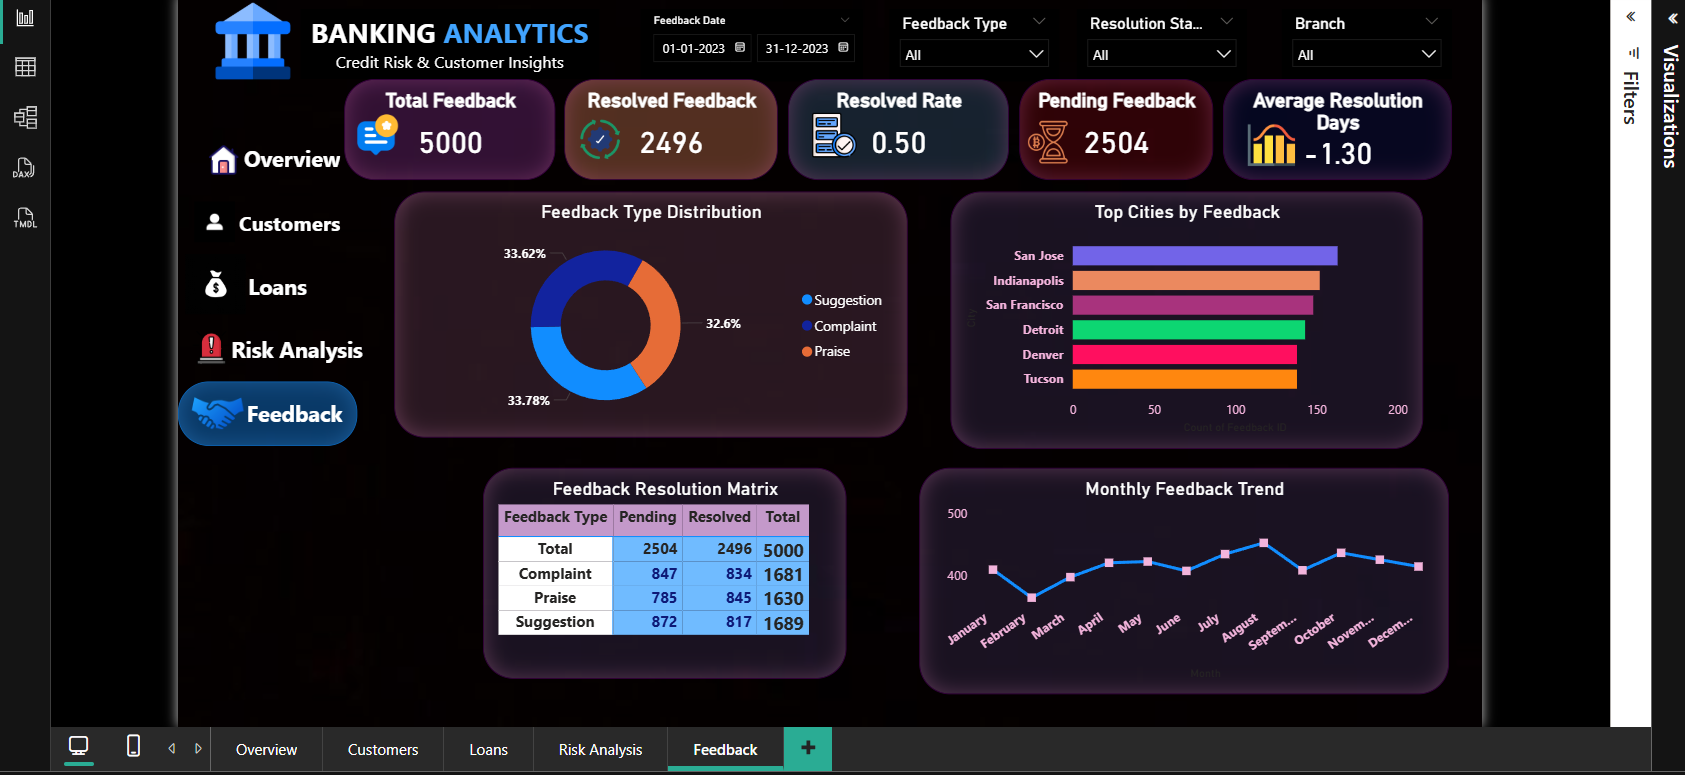

This screenshot's page, from the dashboard's own definition file:
{"tool":"powerbi","page":{"name":"Feedback","canvas":[1280,720],"ordinal":4},"visuals":[{"type":"textbox","box":[120.2,14.7,293.3,68.7],"z":0},{"type":"slicer","fields":{"Values":["Banking_Analysis.Feedback Date"]},"box":[454,14.7,218.4,71.2],"z":1000},{"type":"slicer","fields":{"Values":["Banking_Analysis.Feedback Type"]},"box":[698.2,14.7,166.9,71.2],"z":2000},{"type":"slicer","fields":{"Values":["Banking_Analysis.Resolution Status"]},"box":[882.2,14.7,173,57.7],"z":3000},{"type":"slicer","fields":{"Values":["Banking_Analysis.Branch "]},"box":[1083.4,14.7,166.9,68.7],"z":4000},{"type":"image","box":[17.2,8.6,112.9,74.8],"z":5000},{"type":"actionButton","box":[0,130.4,163.3,61.7],"z":6000},{"type":"actionButton","box":[0,380.1,175.6,63.1],"z":7000},{"type":"actionButton","box":[0,318.4,185.2,61.7],"z":8000},{"type":"actionButton","box":[0,255.2,130.4,63.1],"z":9000},{"type":"actionButton","box":[0,192.1,163.3,63.1],"z":10000},{"type":"card","title":"Total Feedback","fields":{"Values":["Banking_Analysis.Total Feedback"]},"box":[163.2,83.4,207.4,99.4],"z":11000},{"type":"card","title":"Resolved Feedback","fields":{"Values":["Banking_Analysis.Resolved Feedback"]},"box":[379.1,83.4,209.8,99.4],"z":12000},{"type":"card","title":"Resolved Rate","fields":{"Values":["Banking_Analysis.Resolution Rate"]},"box":[598.8,83.4,217.2,99.4],"z":13000},{"type":"card","title":"Pending Feedback","fields":{"Values":["Banking_Analysis.Pending Feedback"]},"box":[825.8,83.4,190.2,99.4],"z":14000},{"type":"card","title":"Average Resolution Days","fields":{"Values":["Banking_Analysis.Average Resolution Days"]},"box":[1025.8,83.4,224.5,99.4],"z":15000},{"type":"donutChart","title":"Feedback Type Distribution","fields":{"Category":["Banking_Analysis.Feedback Type"],"Y":["CountNonNull(Banking_Analysis.Feedback ID)"]},"box":[212.7,193.5,503.6,241.5],"z":16000},{"type":"lineChart","title":"Monthly Feedback Trend","fields":{"Y":["CountNonNull(Banking_Analysis.Feedback ID)"],"Category":["Banking_Analysis.Feedback Date.Variation.Date Hierarchy.Month"]},"box":[727.3,465.2,520.1,222.3],"z":17000},{"type":"clusteredBarChart","title":"Top Cities by Feedback","fields":{"Category":["Banking_Analysis.City"],"Y":["CountNonNull(Banking_Analysis.Feedback ID)"]},"box":[758.8,193.5,463.8,252.5],"z":18000},{"type":"pivotTable","title":"Feedback Resolution Matrix","fields":{"Rows":["Banking_Analysis.Feedback Type"],"Columns":["Banking_Analysis.Resolution Status"],"Values":["CountNonNull(Banking_Analysis.Customer ID)"]},"box":[299.1,465.2,356.8,207.2],"z":19000},{"type":"image","box":[17.8,148.2,52.1,28.8],"z":20000},{"type":"image","box":[0,255.2,74.1,59],"z":21000},{"type":"image","box":[0,329.3,65.9,37],"z":22000},{"type":"image","box":[16.5,199,39.8,49.4],"z":23000},{"type":"image","box":[12.3,377.4,53.5,67.2],"z":24000},{"type":"image","box":[163.3,113.9,65.9,48],"z":25000},{"type":"image","box":[378.7,122.1,70,39.8],"z":26000},{"type":"image","box":[616.1,116.6,56.3,43.9],"z":27000},{"type":"image","box":[826.1,122.1,56.3,45.3],"z":28000},{"type":"image","box":[1040.1,124.9,65.9,46.7],"z":29000}]}

Visuals, with their boxes on the page's 1280x720 design canvas (x1, y1, x2, y2). These are canvas units, not pixel positions in the 1685x775 screenshot, which may show the page scaled, cropped or inside an application window:
textbox: box=[120, 15, 414, 83]
slicer - Banking_Analysis.Feedback Date: box=[454, 15, 672, 86]
slicer - Banking_Analysis.Feedback Type: box=[698, 15, 865, 86]
slicer - Banking_Analysis.Resolution Status: box=[882, 15, 1055, 72]
slicer - Banking_Analysis.Branch : box=[1083, 15, 1250, 83]
image: box=[17, 9, 130, 83]
actionButton: box=[0, 130, 163, 192]
actionButton: box=[0, 380, 176, 443]
actionButton: box=[0, 318, 185, 380]
actionButton: box=[0, 255, 130, 318]
actionButton: box=[0, 192, 163, 255]
"Total Feedback" card: box=[163, 83, 371, 183]
"Resolved Feedback" card: box=[379, 83, 589, 183]
"Resolved Rate" card: box=[599, 83, 816, 183]
"Pending Feedback" card: box=[826, 83, 1016, 183]
"Average Resolution Days" card: box=[1026, 83, 1250, 183]
"Feedback Type Distribution" donutChart: box=[213, 194, 716, 435]
"Monthly Feedback Trend" lineChart: box=[727, 465, 1247, 688]
"Top Cities by Feedback" clusteredBarChart: box=[759, 194, 1223, 446]
"Feedback Resolution Matrix" pivotTable: box=[299, 465, 656, 672]
image: box=[18, 148, 70, 177]
image: box=[0, 255, 74, 314]
image: box=[0, 329, 66, 366]
image: box=[16, 199, 56, 248]
image: box=[12, 377, 66, 445]
image: box=[163, 114, 229, 162]
image: box=[379, 122, 449, 162]
image: box=[616, 117, 672, 160]
image: box=[826, 122, 882, 167]
image: box=[1040, 125, 1106, 172]
